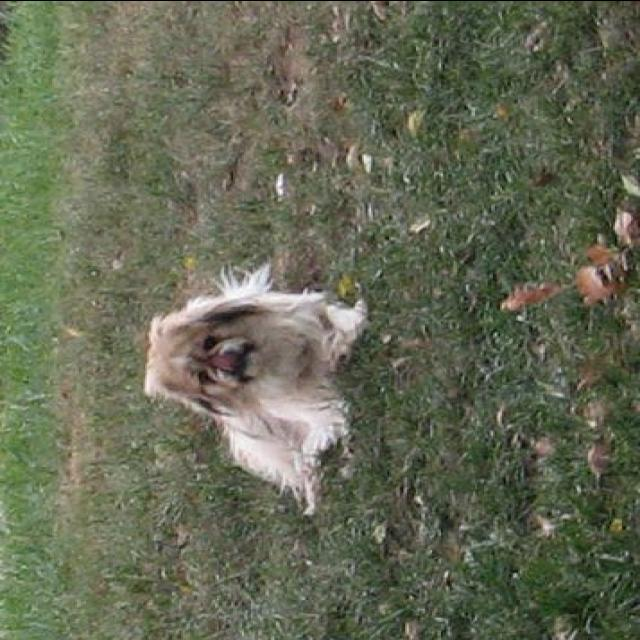pekinese: (146, 264, 364, 518)
